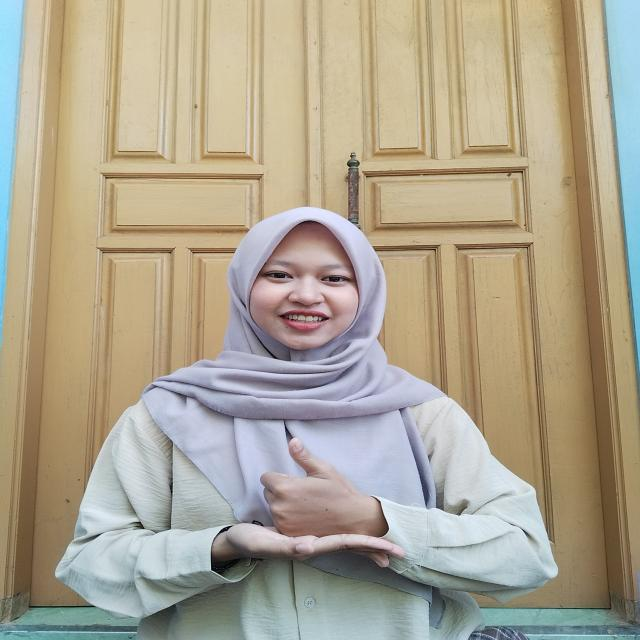cantik: (203, 432, 406, 572)
